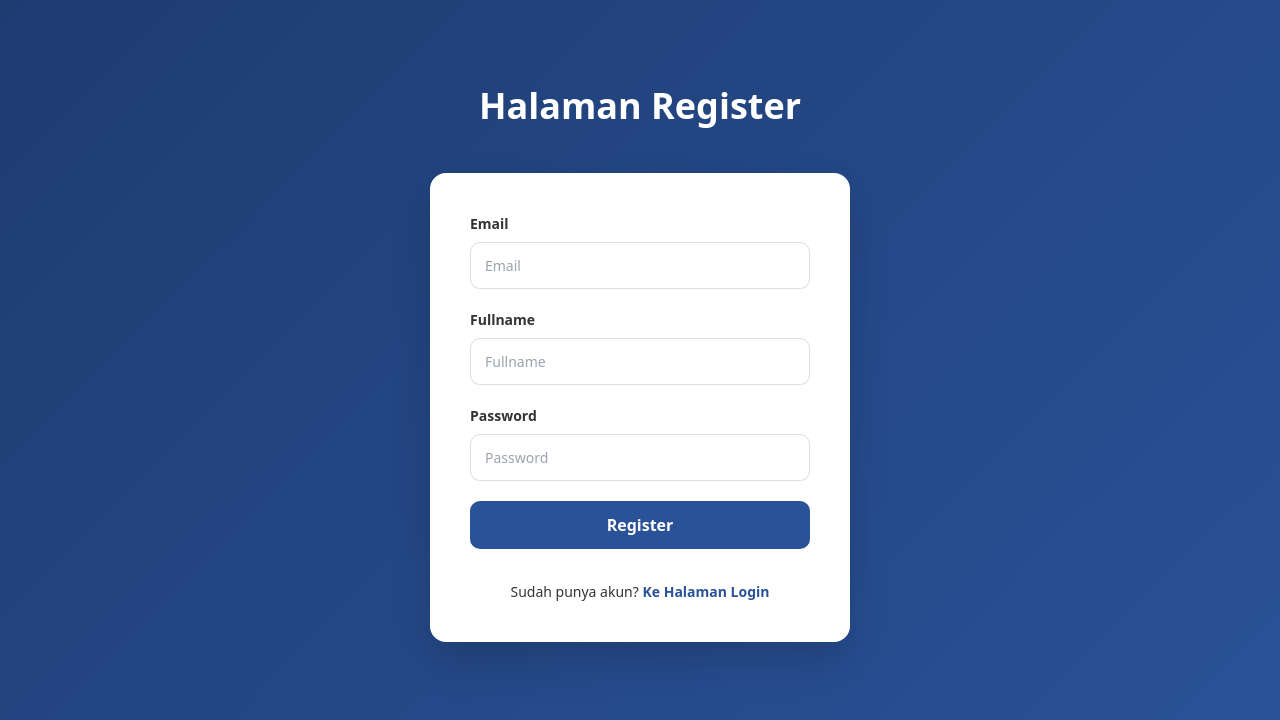
Scenario: Register Page › error jika password kurang
Type "test@mail.com" into the field with placeholder "Email". click: {"x": 640, "y": 265}
box: top-left (470, 242), bottom-right (810, 288)
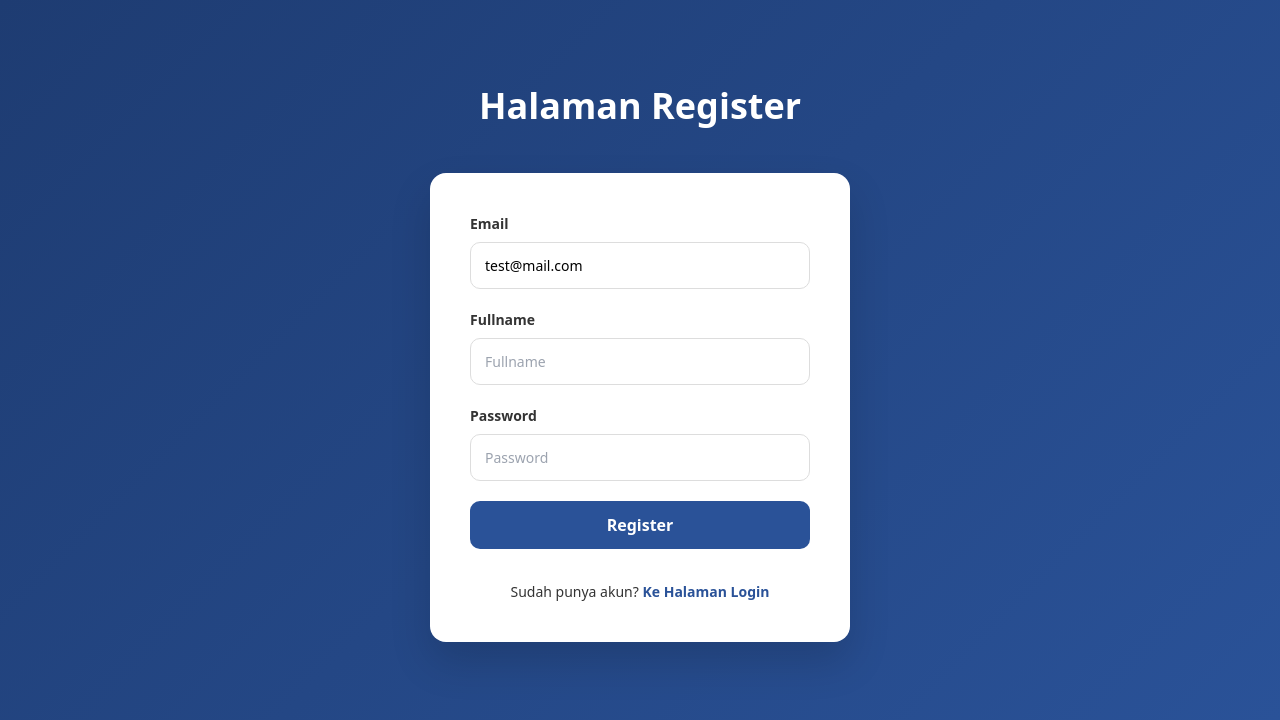
Type "123" into the password field with placeholder "Password". click: {"x": 640, "y": 457}
box: top-left (470, 434), bottom-right (810, 480)
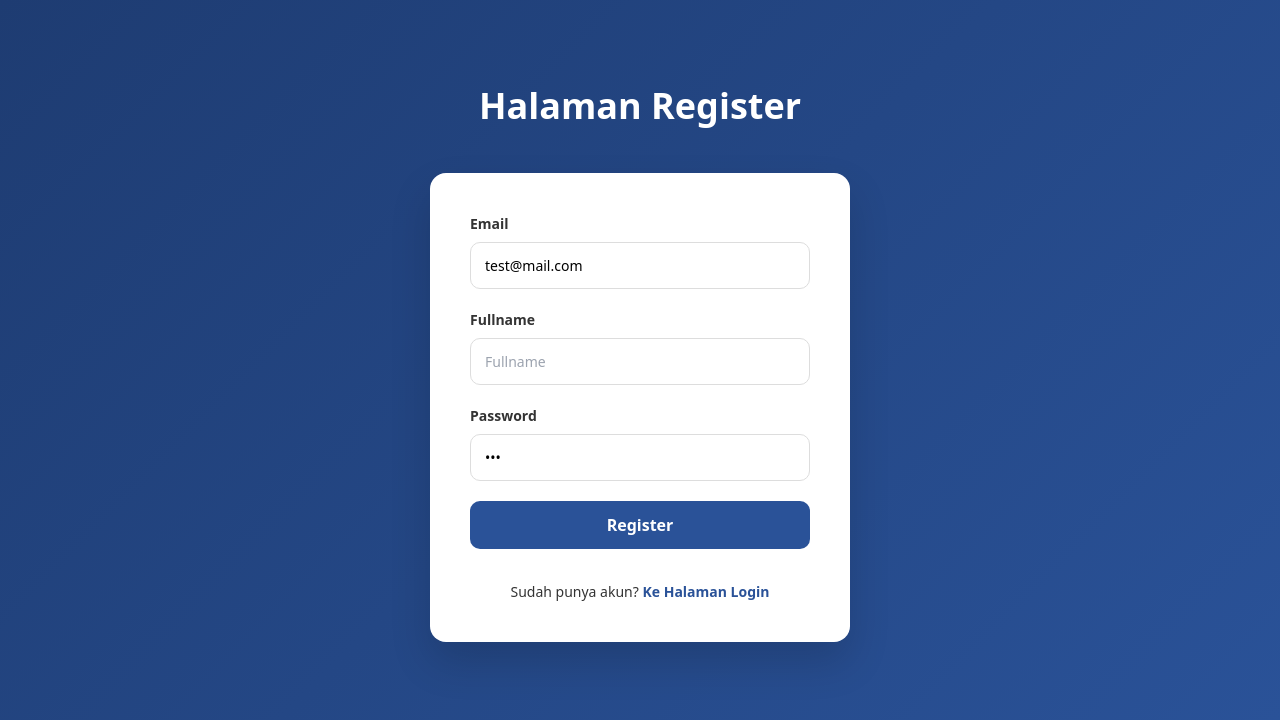
Click the button "Register". click: {"x": 640, "y": 524}
box: top-left (470, 500), bottom-right (810, 548)
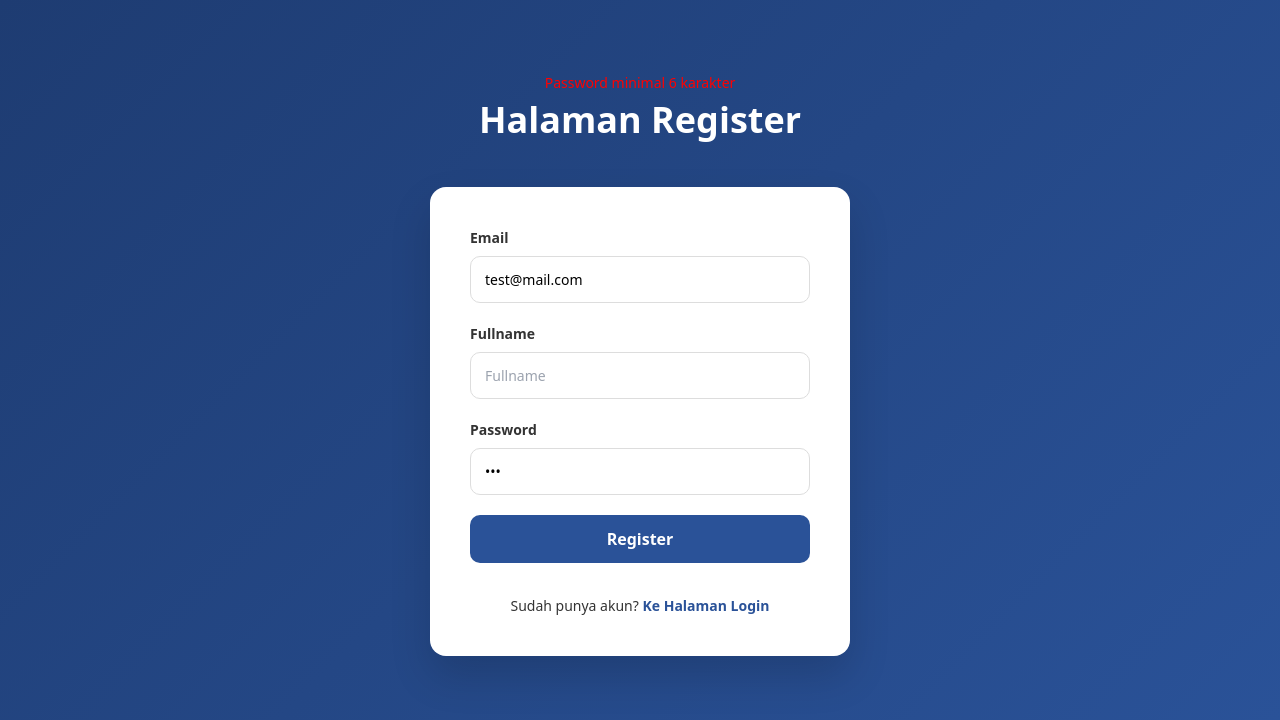
Now the text "Password minimal 6 karakter" is shown, box top-left (545, 72), bottom-right (735, 93)
